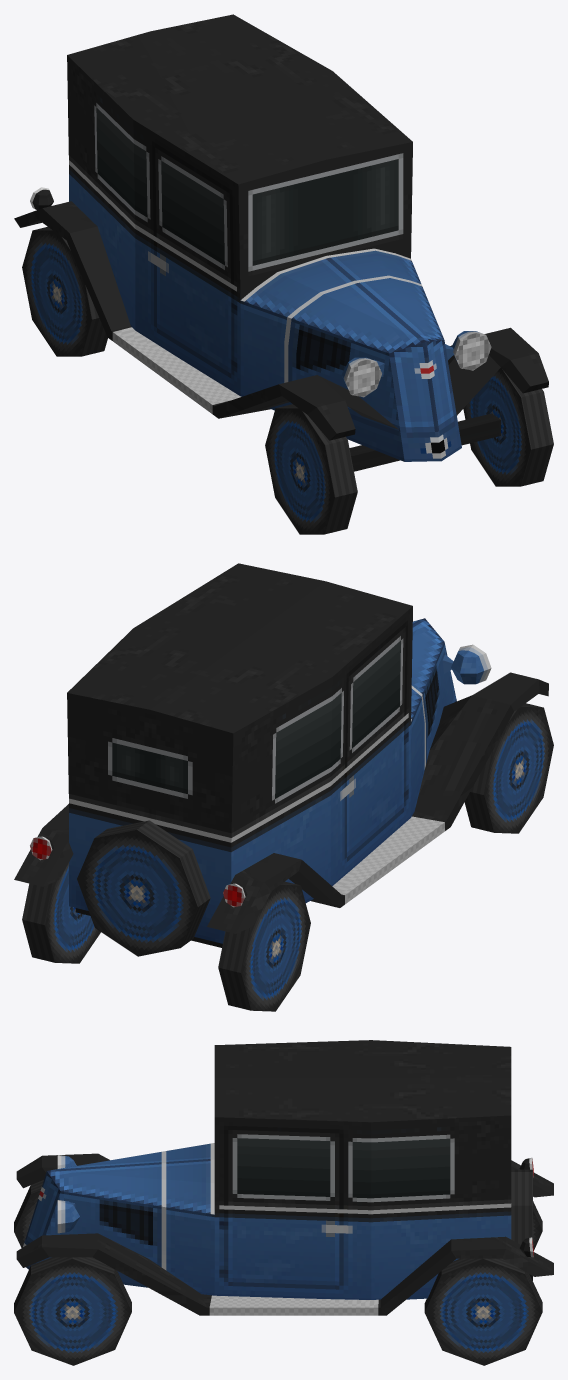
Rendered from car_compact.glb.
The picture shows the model from 3 angles, top to bottom: view 1: azimuth 30°, elevation 25°; view 2: azimuth 150°, elevation 25°; view 3: azimuth 270°, elevation 25°; orthographic projection. The views are drawn at different scales.
Visible parts, largest first — view 1: Car7; view 2: Car7; view 3: Car7.
Part boxes in pixels (<box>): Car7: <box>14,14,553,534</box>; Car7: <box>14,563,553,1011</box>; Car7: <box>14,1040,553,1365</box>.
Bounding box in the file's own units: 1.85 × 2.18 × 4.4.
1 material, 1 textured.
